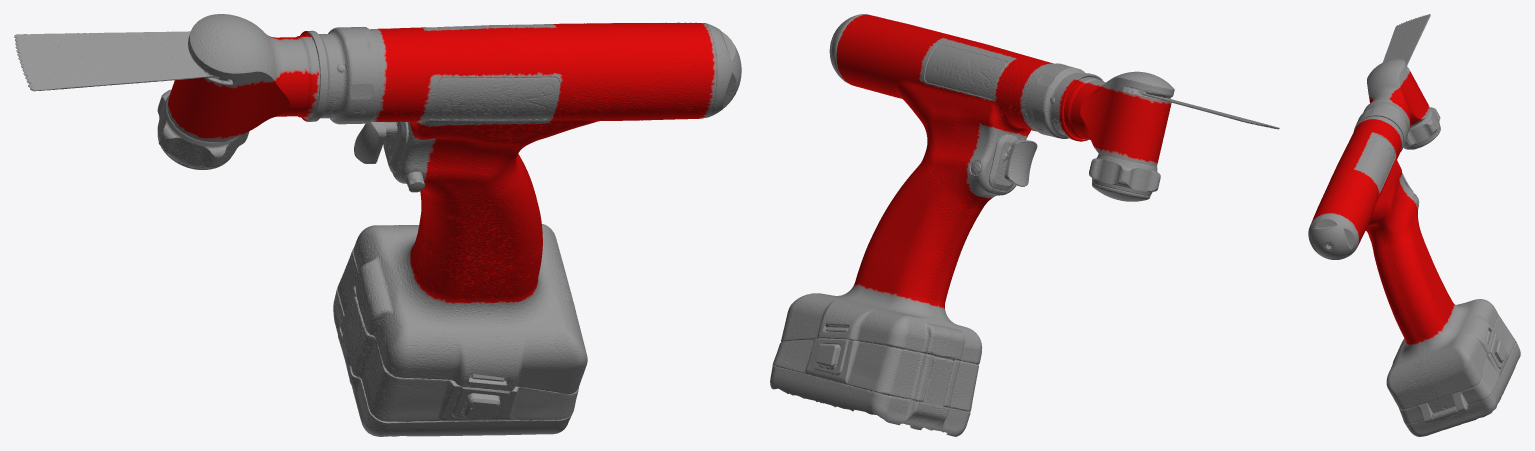
The model's file is taxonomy_22_not_textured.glb.
The picture shows the model from 3 angles, left to right: view 1: azimuth 30°, elevation 25°; view 2: azimuth 150°, elevation 25°; view 3: azimuth 270°, elevation 25°; orthographic projection. The views are drawn at different scales.
Parts seen in each view (by area): view 1: world; view 2: world; view 3: world.
Part boxes in pixels (bbox=[...]): world: bbox=[14, 14, 741, 436]; world: bbox=[770, 14, 1279, 436]; world: bbox=[1308, 14, 1520, 436].
Bounding box in the file's own units: 284 × 217 × 148.
